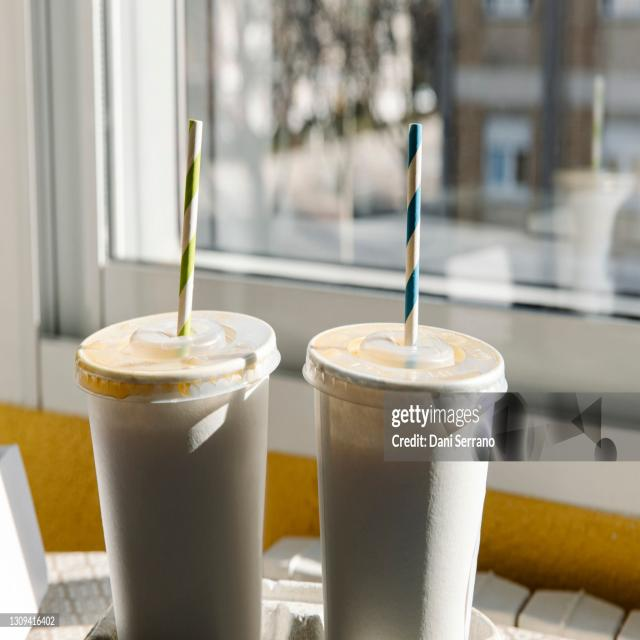cup: (72, 304, 279, 636)
